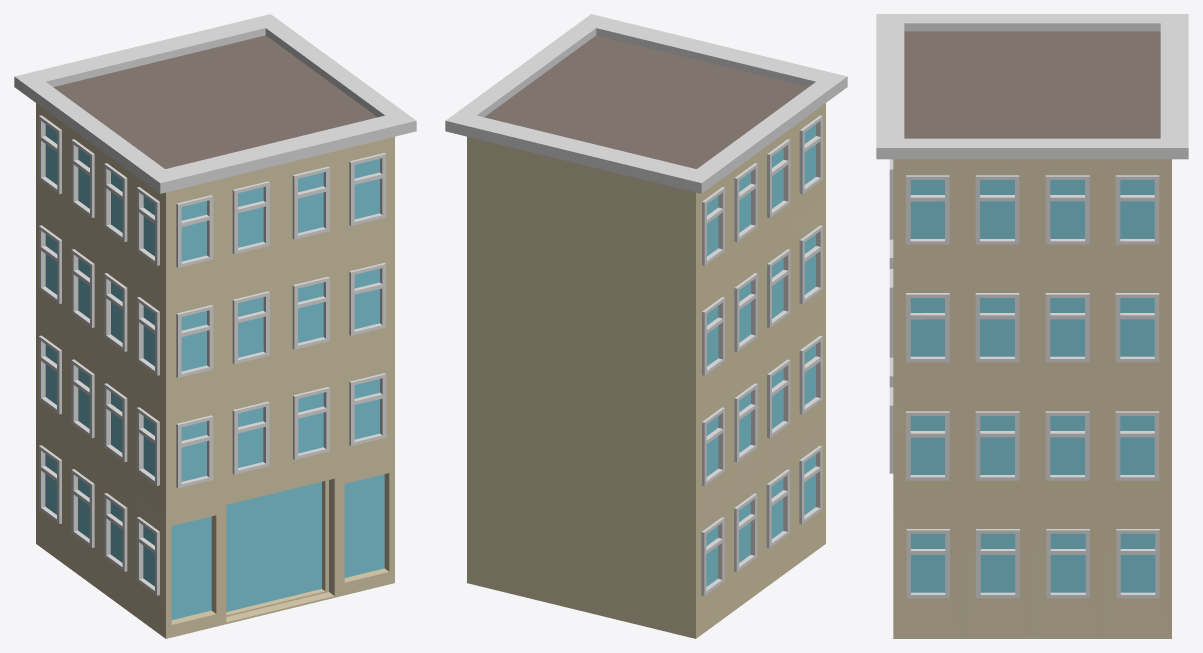
File: Building9.fbx
3 renders of one model, left to right at view 1: azimuth 30°, elevation 25°; view 2: azimuth 150°, elevation 25°; view 3: azimuth 270°, elevation 25°, orthographic. The views are drawn at different scales.
Parts seen in each view (by area): view 1: pCube15; view 2: pCube15; view 3: pCube15.
Part boxes in pixels (left/top/right/bottom): pCube15: left=14, top=14, right=416, bottom=638; pCube15: left=445, top=14, right=847, bottom=638; pCube15: left=876, top=14, right=1188, bottom=638.
Bounding box in the file's own units: 636 × 1102 × 627.
